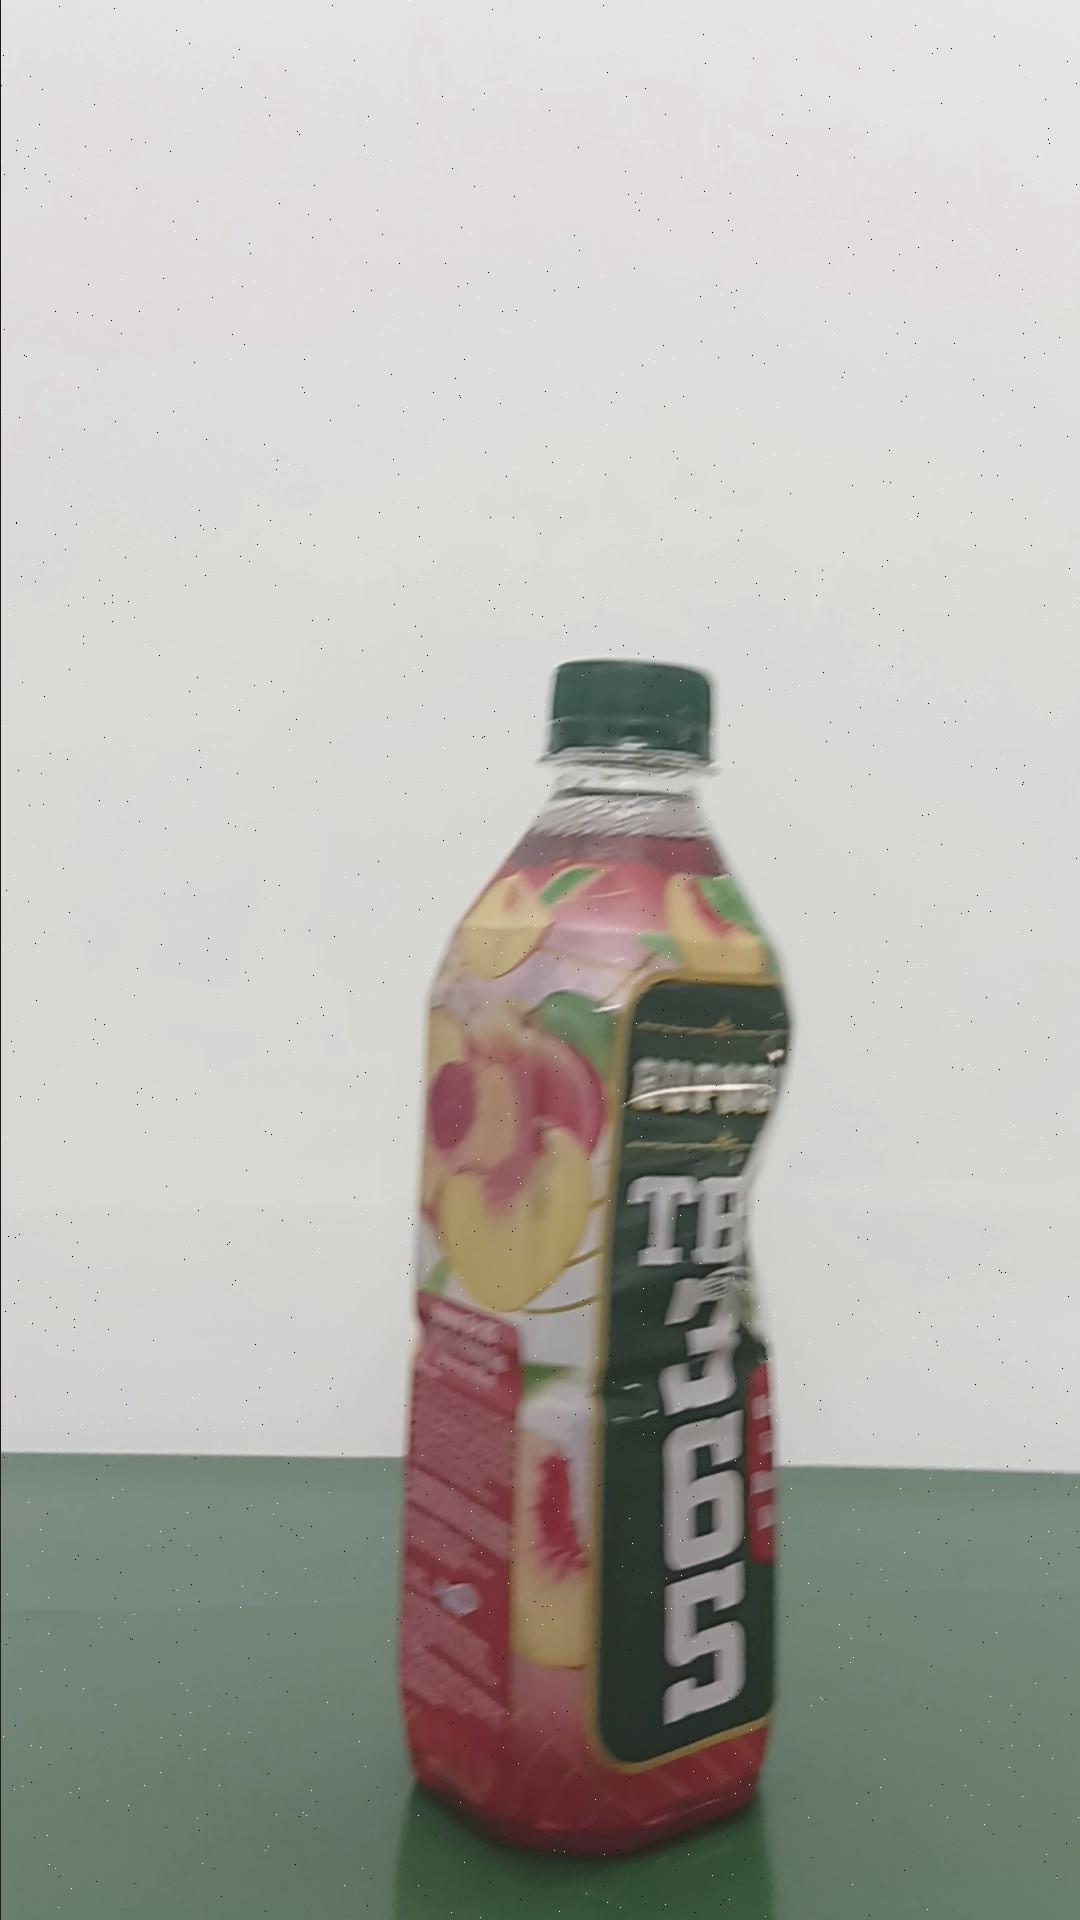loi meo sp: (394, 654, 794, 1855)
